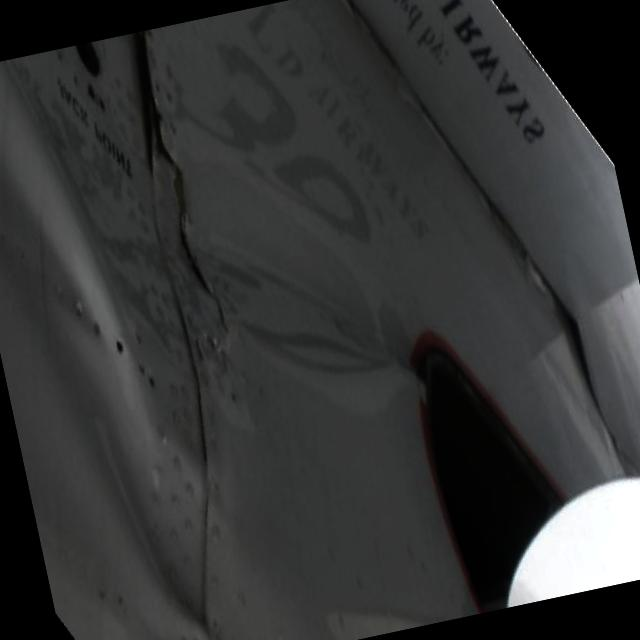crack: (135, 84, 237, 343)
